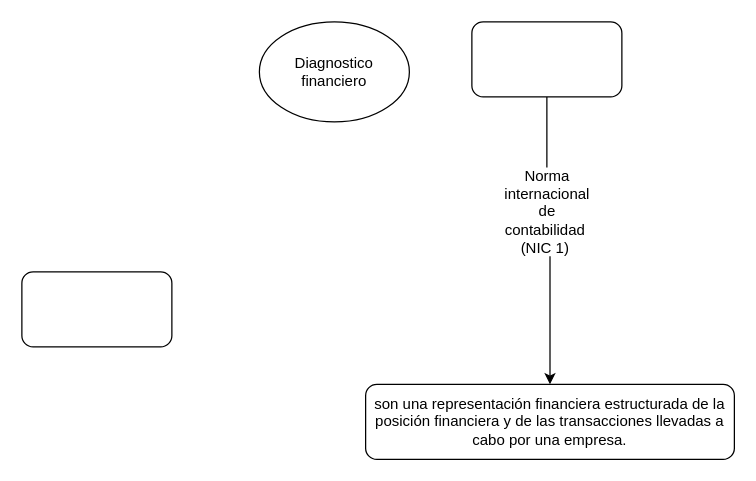
This 756x481 diagram has some shape labels left out. Each missing label, with the box of its shape:
Estados financieros: (471, 21, 622, 97)
Norma internacional de contabilidad (NIC 1) l: (21, 271, 172, 347)
